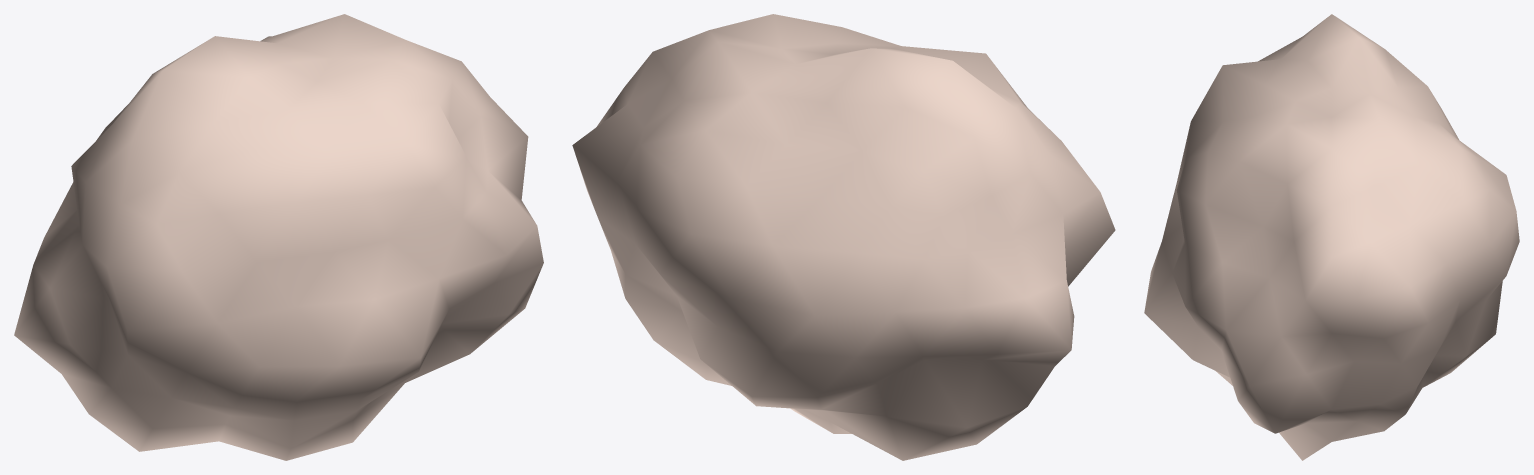
The model's file is rocher_dos.glb.
The picture shows the model from 3 angles, left to right: view 1: azimuth 30°, elevation 25°; view 2: azimuth 150°, elevation 25°; view 3: azimuth 270°, elevation 25°; orthographic projection. The views are drawn at different scales.
Visible parts, largest first — view 1: RocherDos; view 2: RocherDos; view 3: RocherDos.
Part boxes in pixels (left/top/right/bottom): RocherDos: left=14, top=14, right=543, bottom=460; RocherDos: left=572, top=14, right=1115, bottom=460; RocherDos: left=1144, top=14, right=1519, bottom=460.
Bounding box in the file's own units: 3.53 × 2.85 × 2.59.
